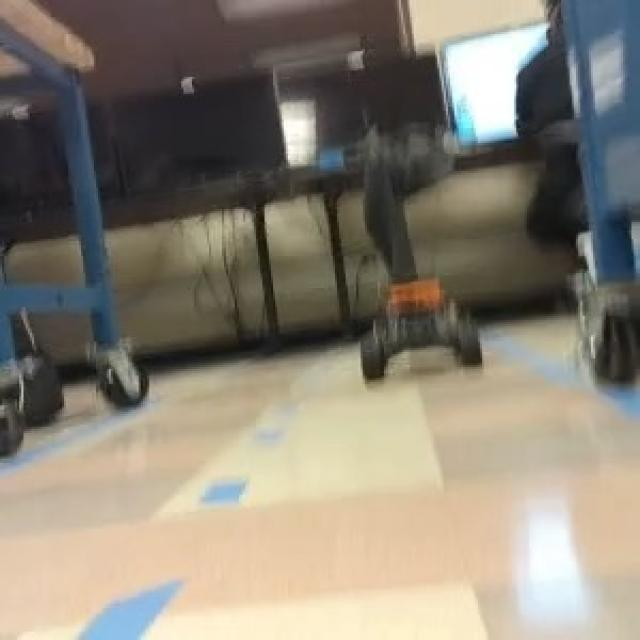obstacle: (342, 270, 495, 390)
